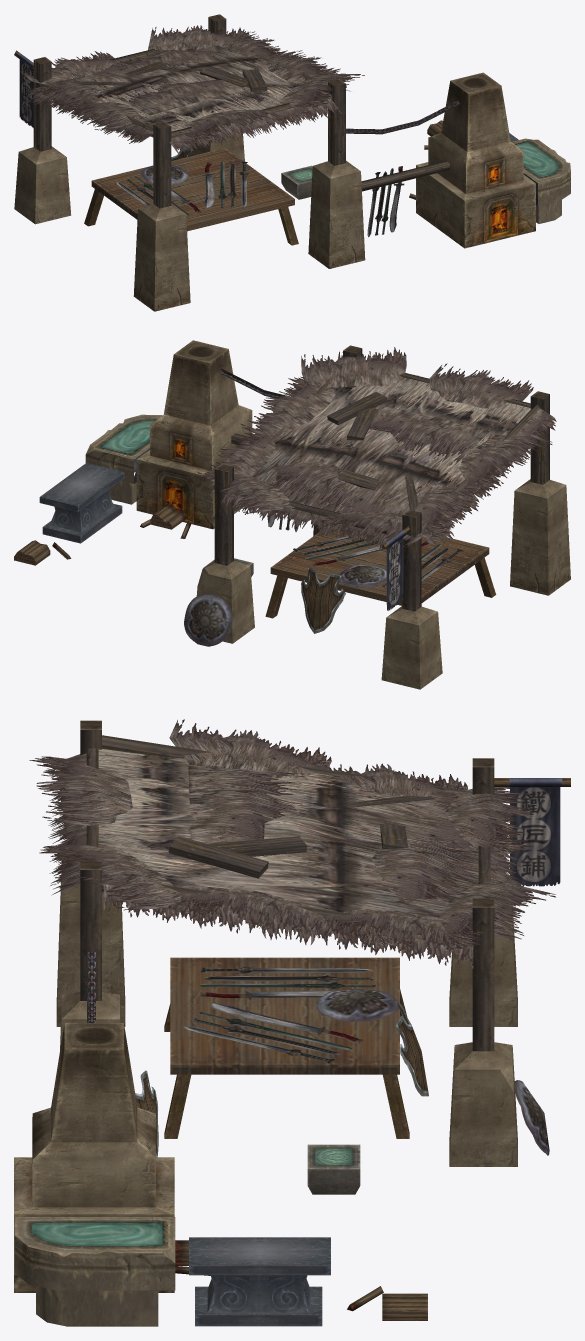
File: tiejiangpu_yc_40.FBX
3 renders of one model, top to bottom at view 1: azimuth 30°, elevation 25°; view 2: azimuth 150°, elevation 25°; view 3: azimuth 270°, elevation 25°, orthographic. The views are drawn at different scales.
Parts seen in each view (by area): view 1: tiejiangpu_yc_40; view 2: tiejiangpu_yc_40; view 3: tiejiangpu_yc_40.
Part boxes in pixels (x1=…): tiejiangpu_yc_40: x1=14, y1=14, x2=570, y2=311; tiejiangpu_yc_40: x1=14, y1=340, x2=570, y2=689; tiejiangpu_yc_40: x1=14, y1=719, x2=570, y2=1326.
Size of what is drawn, in the model's own units: 1316 by 502 by 883.
